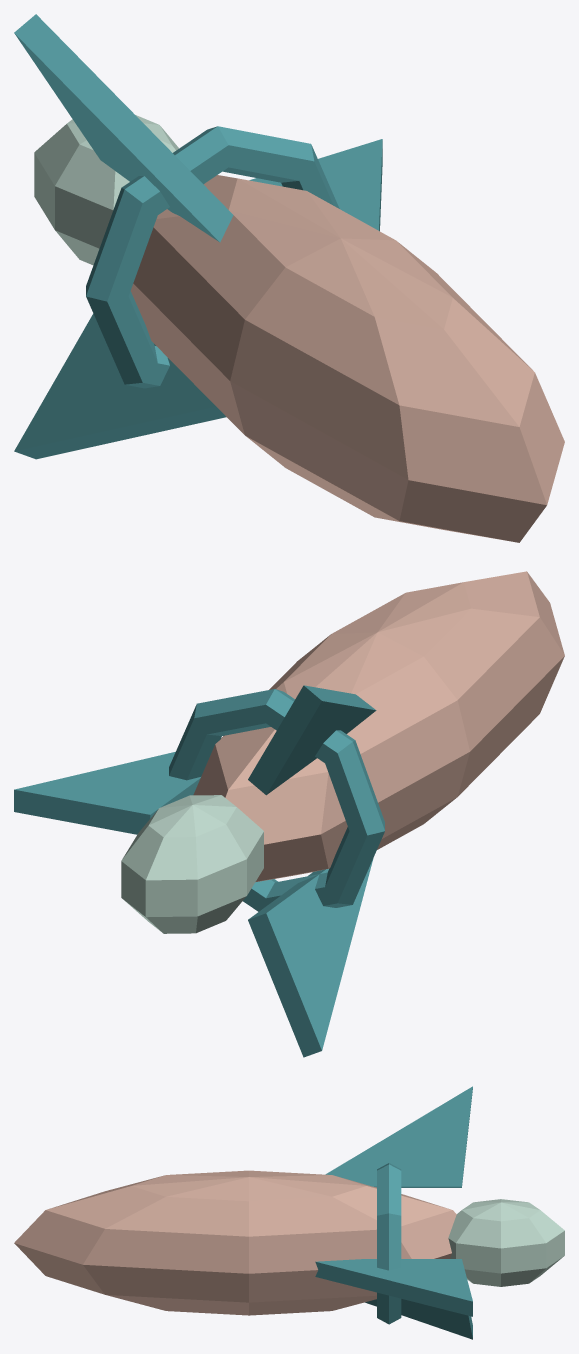
Rendered from marine-projectile-enemy.glb.
The picture shows the model from 3 angles, top to bottom: view 1: azimuth 30°, elevation 25°; view 2: azimuth 150°, elevation 25°; view 3: azimuth 270°, elevation 25°; orthographic projection. The views are drawn at different scales.
Visible parts, largest first — view 1: marine-projectile-enemy; view 2: marine-projectile-enemy; view 3: marine-projectile-enemy.
Boxes of the visible parts, x1=… form: marine-projectile-enemy: x1=14, y1=14, x2=564, y2=542; marine-projectile-enemy: x1=14, y1=571, x2=564, y2=1057; marine-projectile-enemy: x1=14, y1=1086, x2=564, y2=1339.
Size of the model in its own units: 0.435 by 0.5 by 0.9841.
